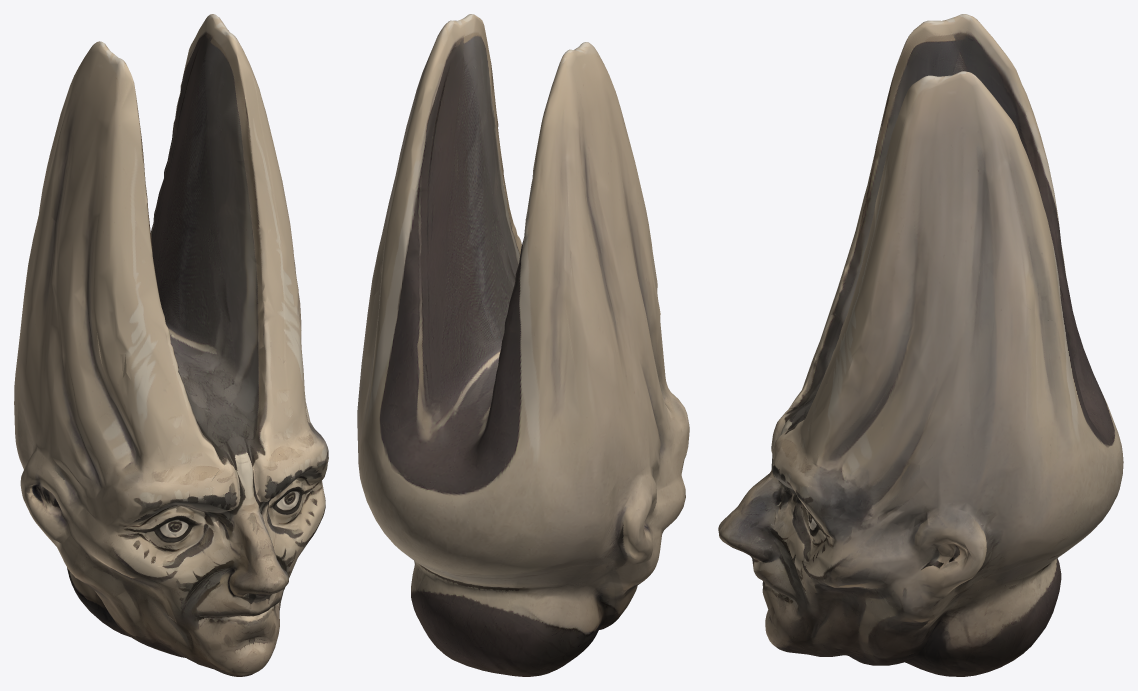
File: PionHead.fbx
3 views of the same model, side by side, from view 1: azimuth 30°, elevation 25°; view 2: azimuth 150°, elevation 25°; view 3: azimuth 270°, elevation 25° (orthographic). The views are drawn at different scales.
Visible parts, largest first — view 1: Mesh_0; view 2: Mesh_0; view 3: Mesh_0.
Boxes of the visible parts, x1=… form: Mesh_0: x1=14, y1=14, x2=328, y2=676; Mesh_0: x1=357, y1=14, x2=689, y2=676; Mesh_0: x1=718, y1=14, x2=1123, y2=676.
Bounding box in the file's own units: 86.98 × 190 × 112.
1 material, 1 textured.
